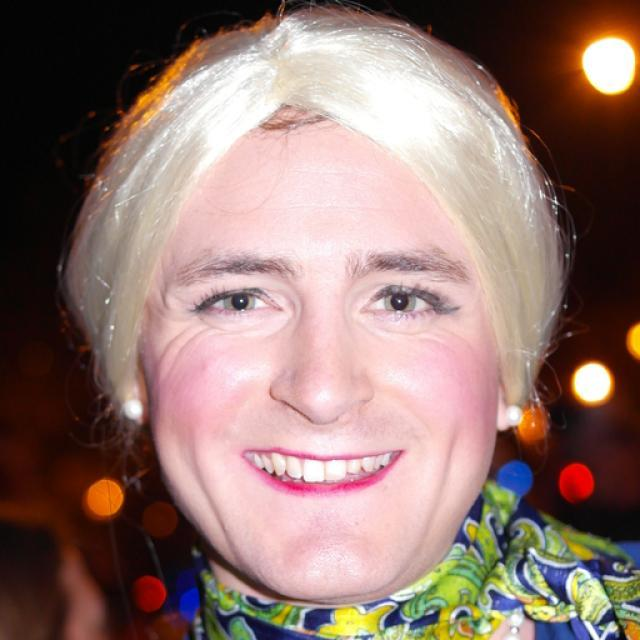happy: (140, 110, 511, 599)
